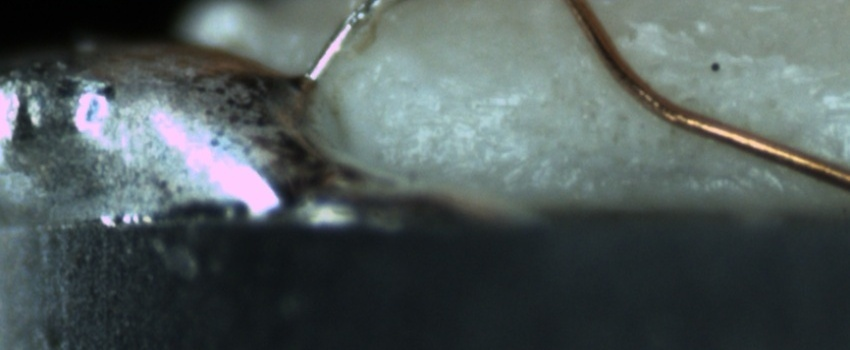TS: (305, 1, 381, 81)
